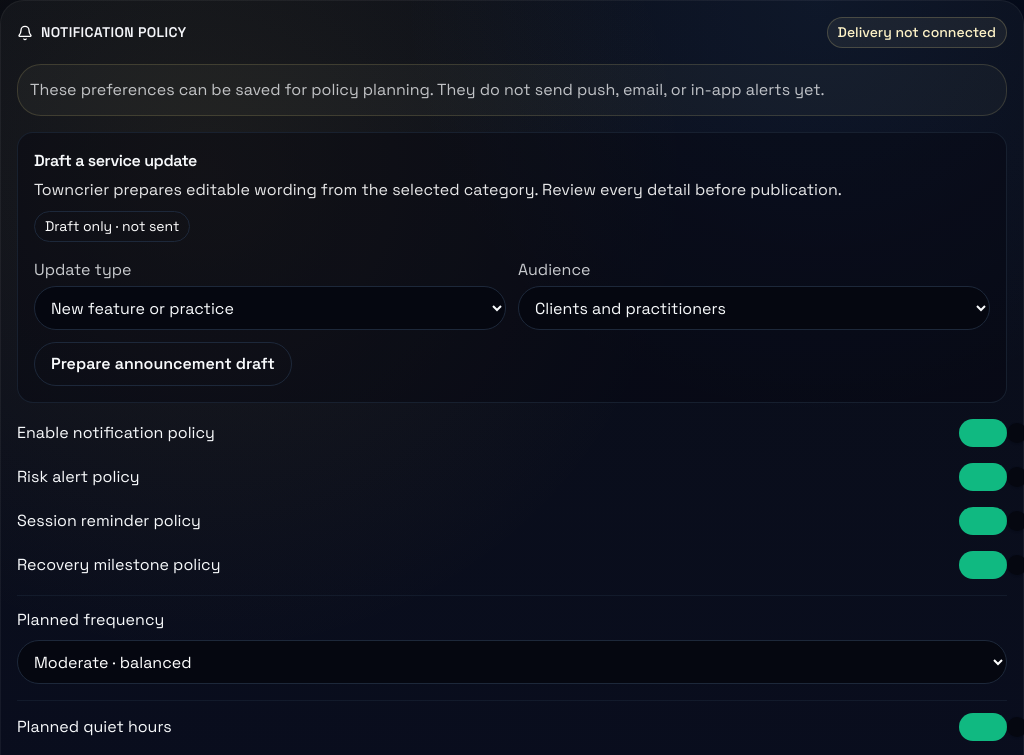
Test: AdminNotificationPolicy › prepares an editable Towncrier draft without implying delivery
The width and height of the screenshot is (1024, 755).
Expected: the text "Draft only · not sent" is shown, [34,211,190,242]
Select "General support resource" in the dropdown labelled "Update type" at coordinates (270, 308), box [34,286,506,330]
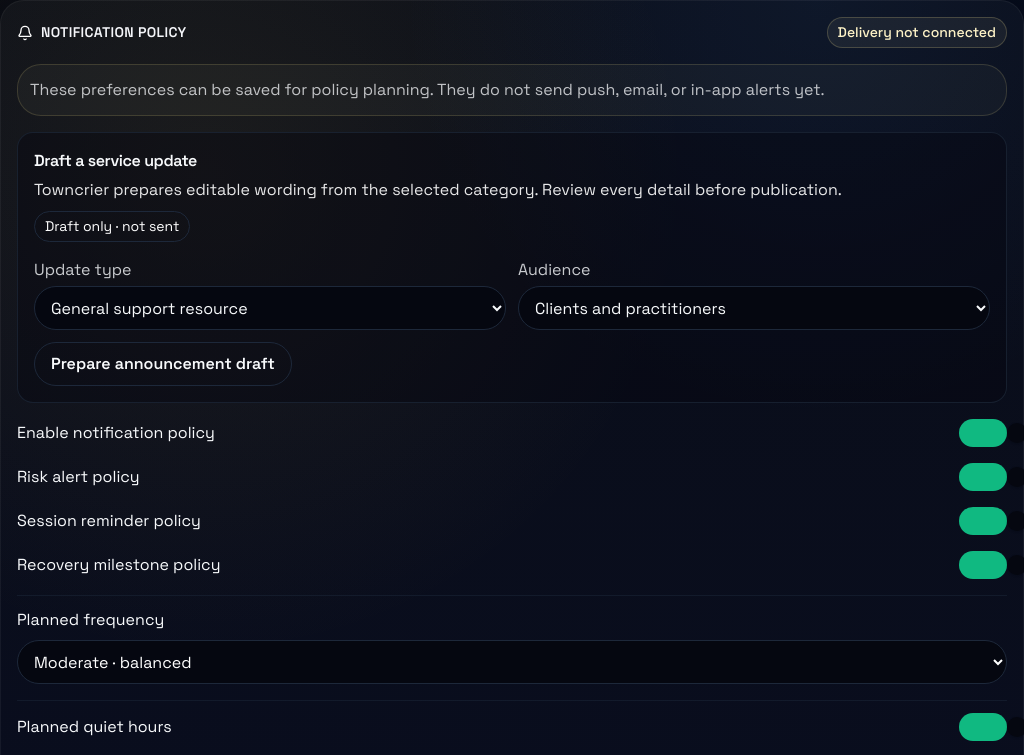
Select "Clients" in the dropdown labelled "Audience" at coordinates (754, 308), box [518,286,990,330]
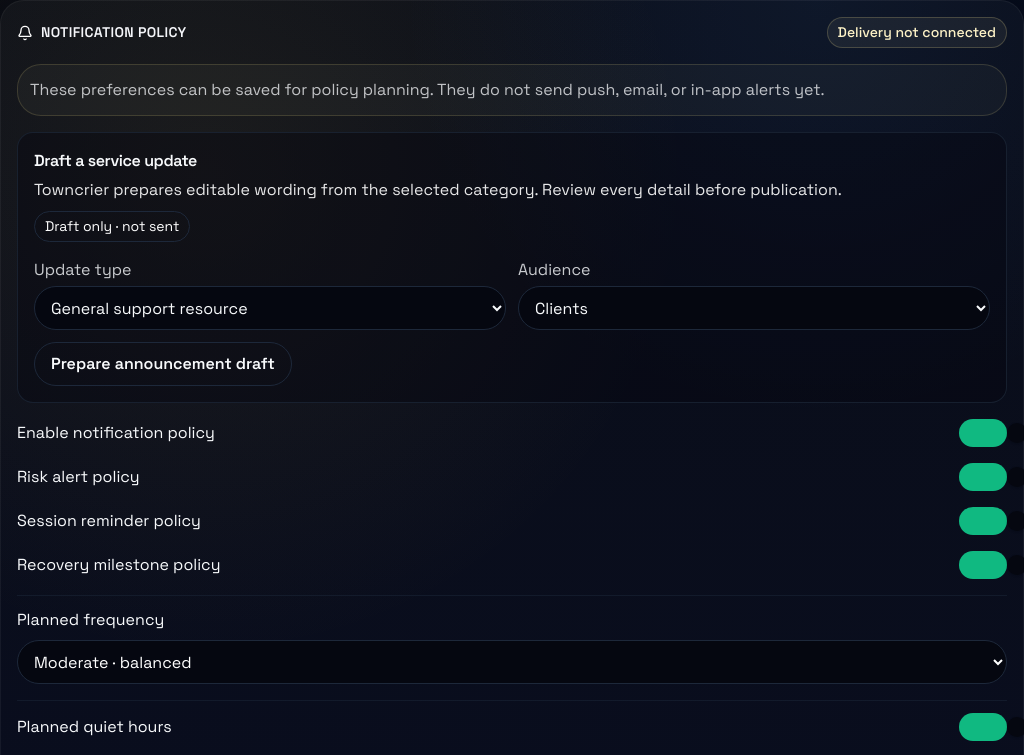
Click the button "Prepare announcement draft" at coordinates (163, 364), box [34,342,292,386]
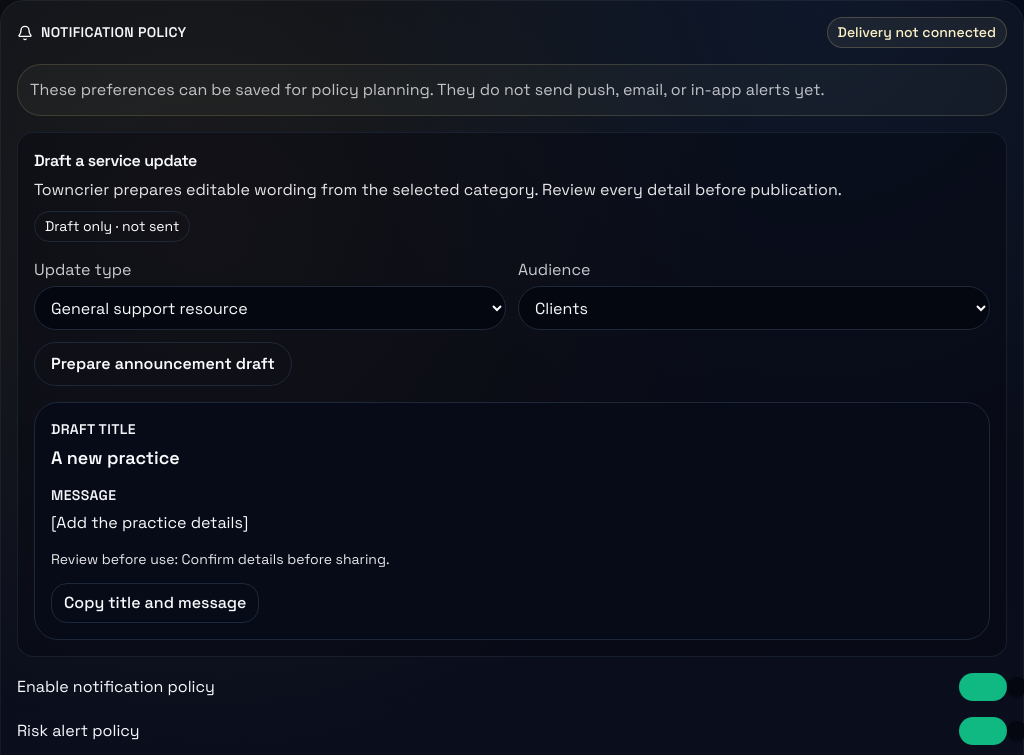
Result: the text "A new practice" is shown at [51,446,180,469]
Result: the text "Review before use: Confirm details before sharing." is shown at [51,550,389,568]
